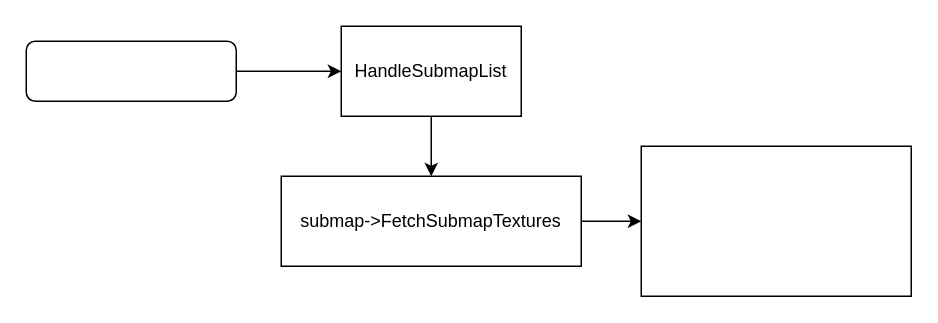
Some shapes in this 938 by 323 pixel diagram are drawn without their labels. Here are the shapes that lost their labels. From the top down, the centre of each, then its label:
point (130, 70): occupancy_grid_node
point (775, 220): 调用SubmapQuery service，请求submap的textures
